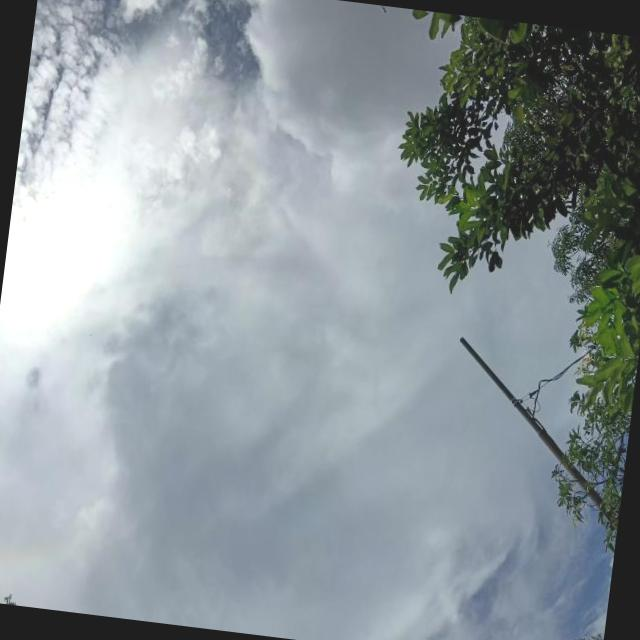cumulus: (0, 192, 434, 640)
